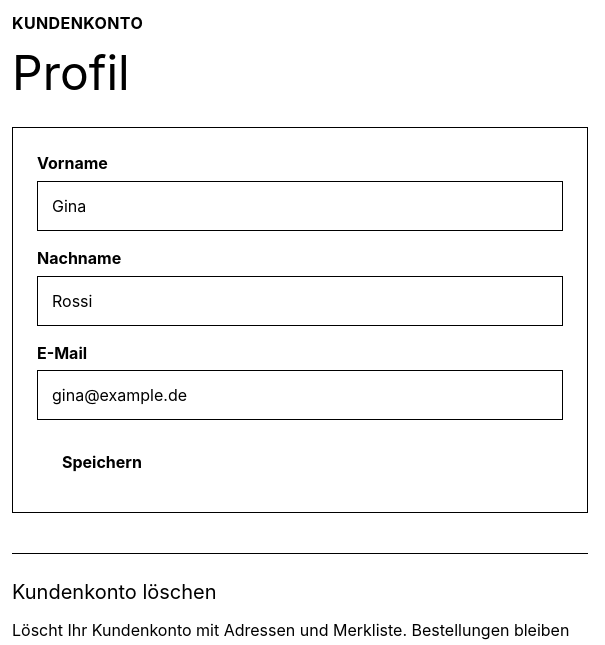
Test: account pages with a preset (#445) › validates the profile and saves it
Replace the text in the field named "email" with "keine-mail". click: (300, 395)
box: [37, 370, 563, 420]
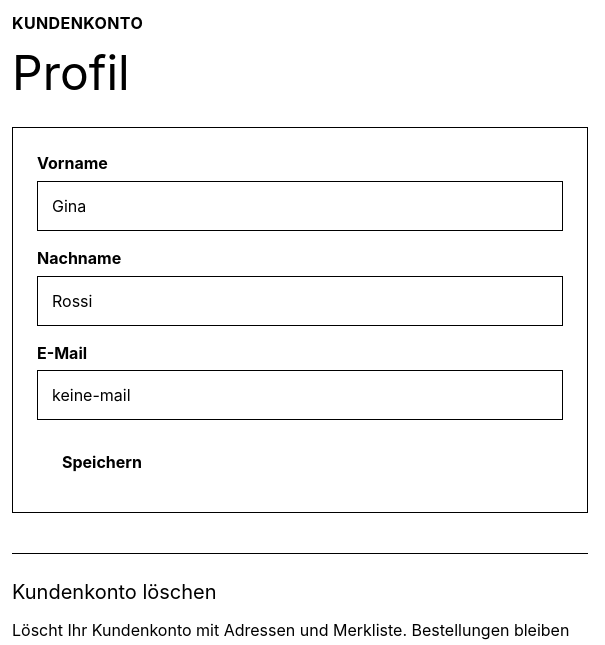
Submit the form, box [12, 127, 588, 513]
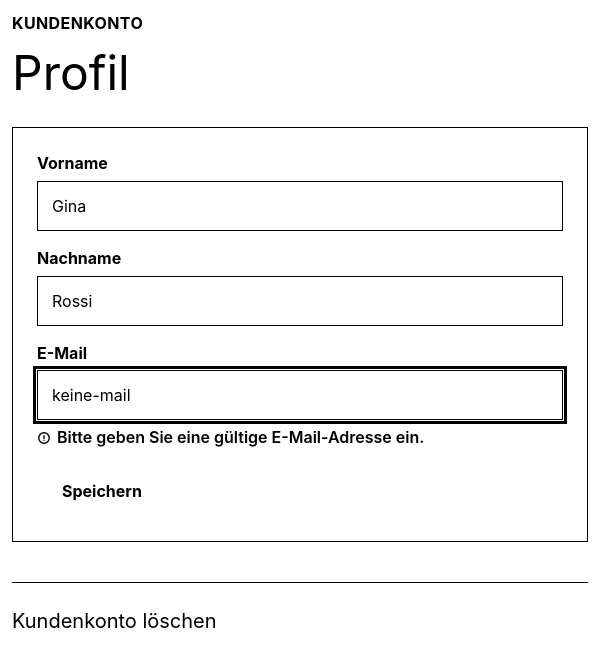
Result: the text "Bitte geben Sie eine gültige E-Mail-Adresse ein." is shown at [37, 427, 424, 447]
Replace the text in the field named "email" with "gina@example.de". click: (300, 395)
box: [37, 370, 563, 420]
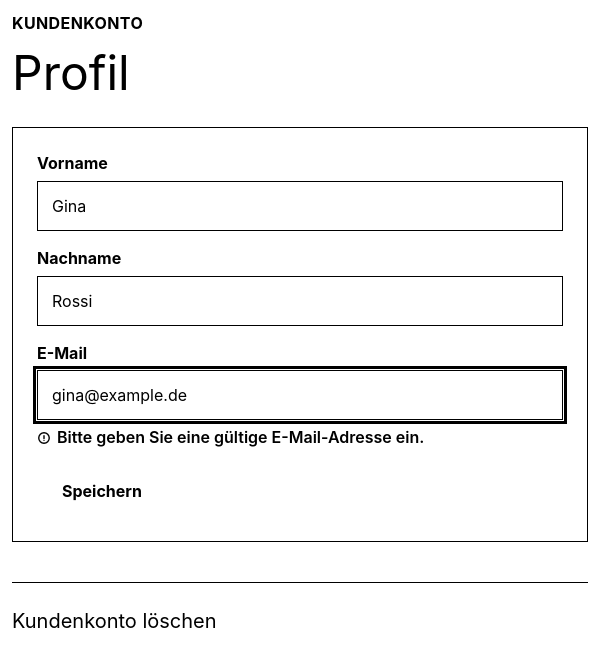
Replace the text in the field named "firstName" with "Regina". click: (300, 206)
box: [37, 181, 563, 231]
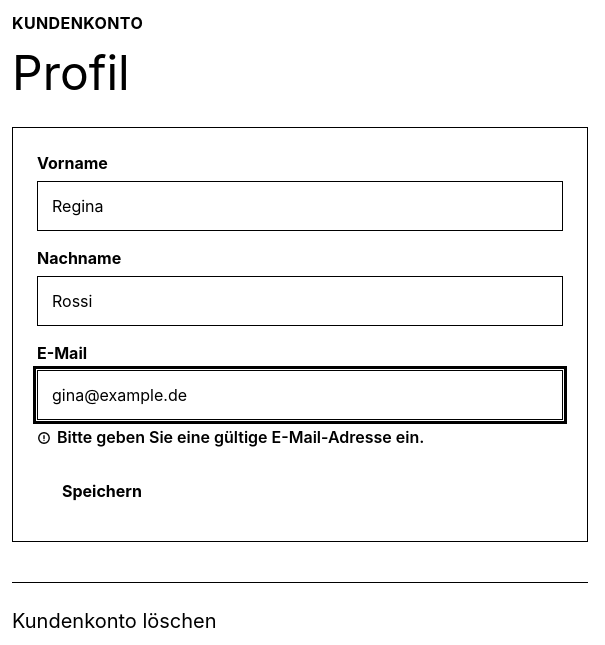
Submit the form
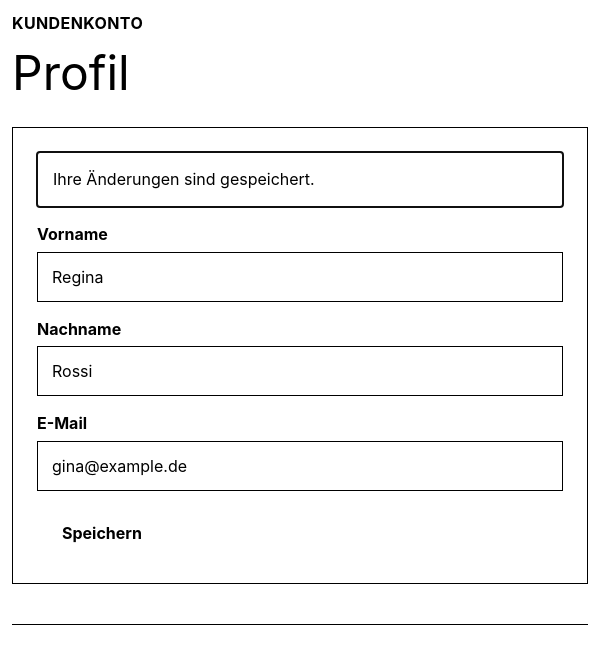
Result: the message "Ihre Änderungen sind gespeichert." is shown at [53, 169, 315, 189]
